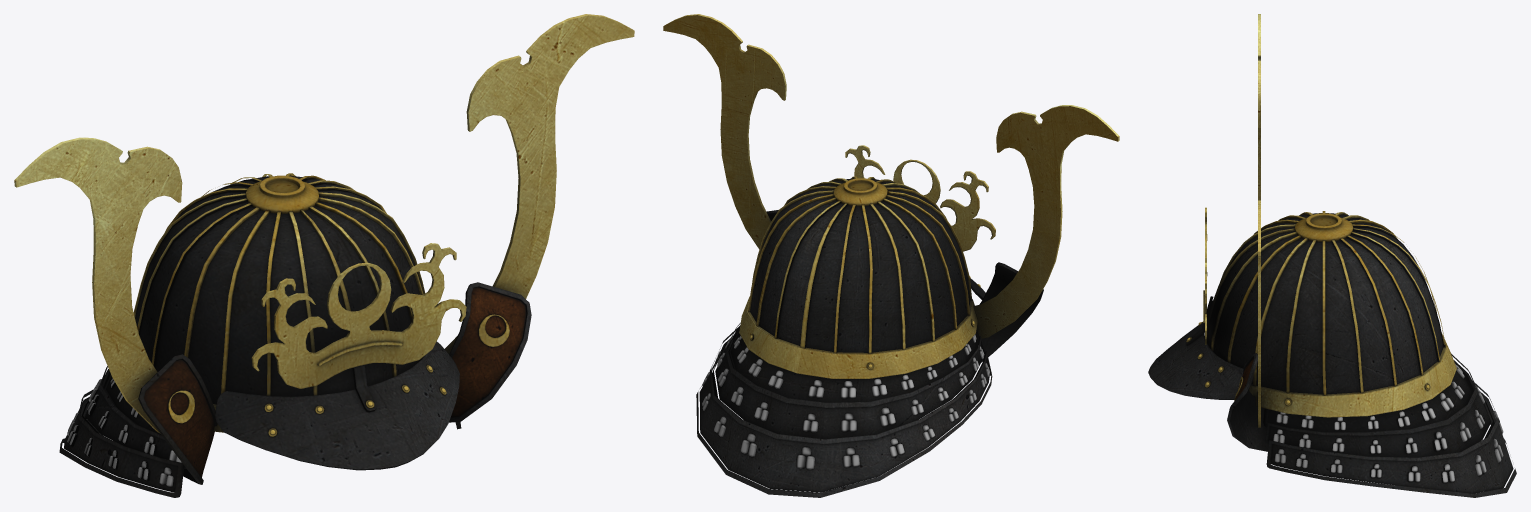
The model's file is jp_helmet_02.fbx.
3 views of the same model, side by side, from view 1: azimuth 30°, elevation 25°; view 2: azimuth 150°, elevation 25°; view 3: azimuth 270°, elevation 25° (orthographic). The views are drawn at different scales.
Parts seen in each view (by area): view 1: helmet_GEO; view 2: helmet_GEO; view 3: helmet_GEO.
Boxes of the visible parts, x1,y1,x2,y2 form: helmet_GEO: [14, 14, 634, 497]; helmet_GEO: [663, 14, 1119, 497]; helmet_GEO: [1148, 14, 1516, 497].
Size of the model in its own units: 5.44 by 3.92 by 3.65.
